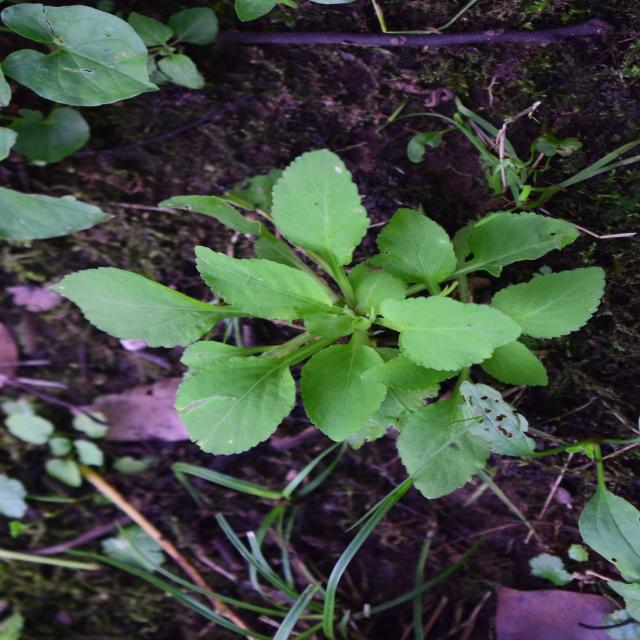Viola: (167, 109, 480, 595)
